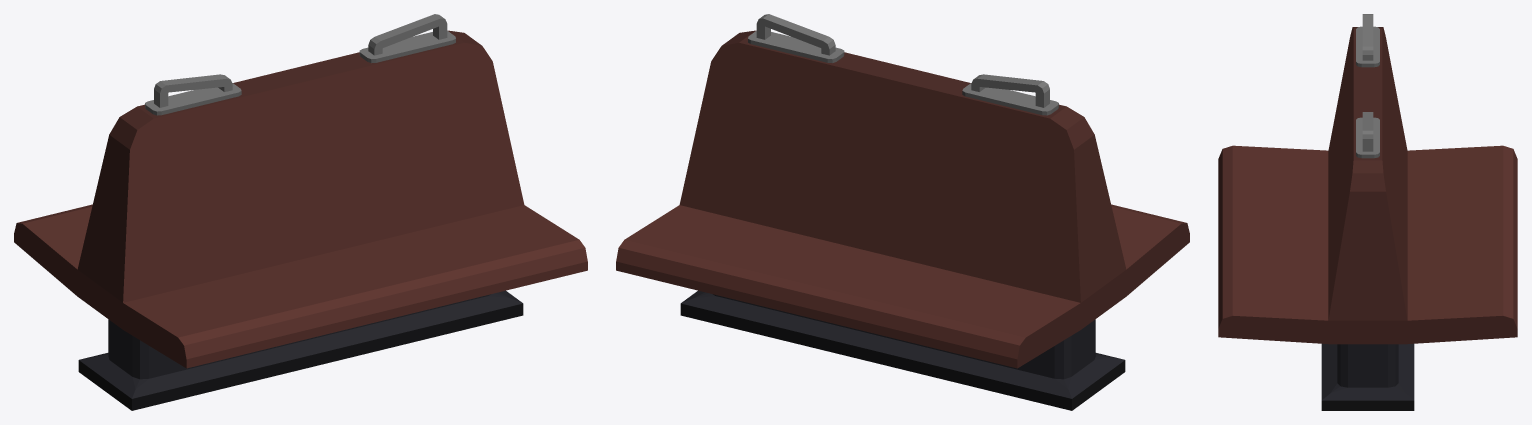
The model's file is PROP_TrainBench.fbx.
3 renders of one model, left to right at view 1: azimuth 30°, elevation 25°; view 2: azimuth 150°, elevation 25°; view 3: azimuth 270°, elevation 25°, orthographic. The views are drawn at different scales.
Visible parts, largest first — view 1: TrainBench; view 2: TrainBench; view 3: TrainBench.
Part boxes in pixels (x1,y1,x2,y2): TrainBench: (14, 14, 587, 410); TrainBench: (616, 14, 1189, 410); TrainBench: (1218, 14, 1517, 410).
Bounding box in the file's own units: 0.9221 × 0.6456 × 0.686.
